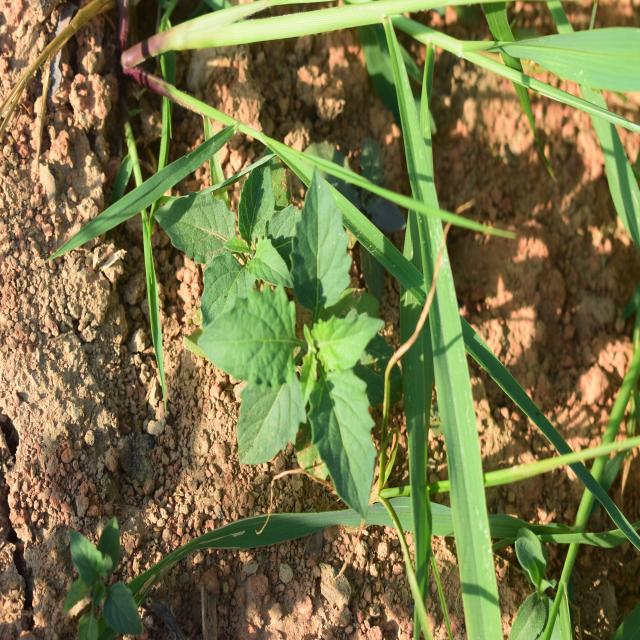Black_nightshade: (206, 168, 385, 498)
